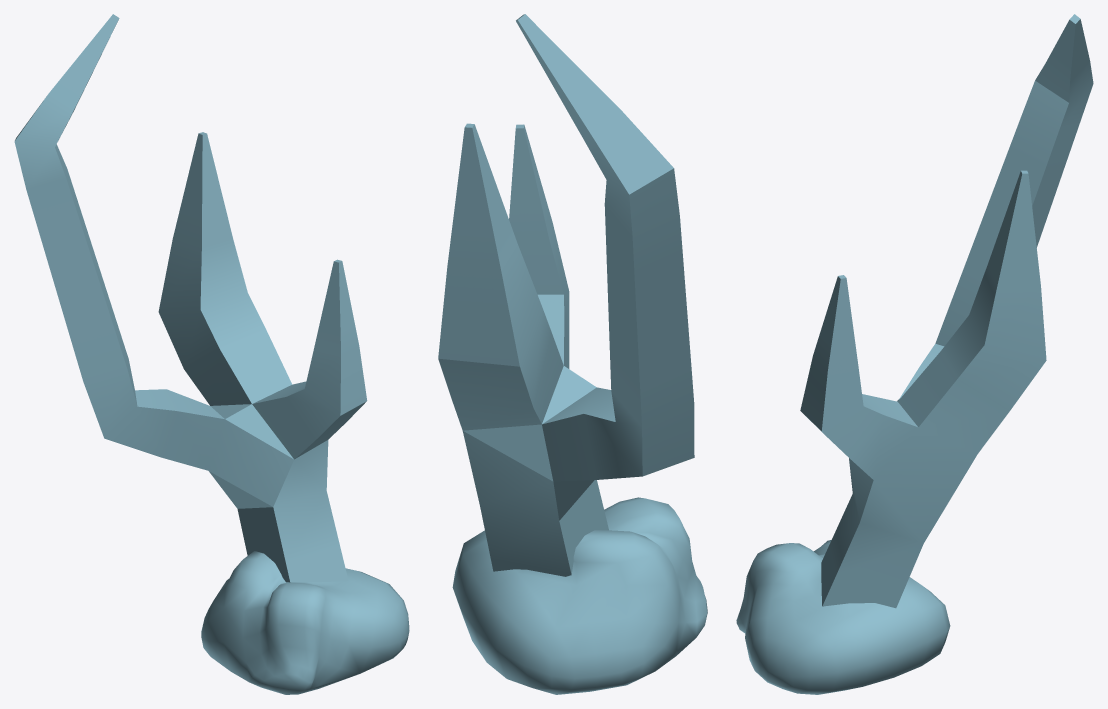
Rendered from cavespikeA.fbx.
3 renders of one model, left to right at view 1: azimuth 30°, elevation 25°; view 2: azimuth 150°, elevation 25°; view 3: azimuth 270°, elevation 25°, orthographic. The views are drawn at different scales.
Parts seen in each view (by area): view 1: Plane, Cube.002; view 2: Plane, Cube.002; view 3: Plane, Cube.002.
Part boxes in pixels (box(x1,y1,x2,y2)): Plane: box(14, 14, 367, 582); Cube.002: box(201, 551, 409, 694); Plane: box(438, 14, 694, 576); Cube.002: box(452, 497, 707, 694); Plane: box(800, 14, 1093, 608); Cube.002: box(736, 540, 950, 694).
Size of the model in its own units: 228 by 466 by 246.
